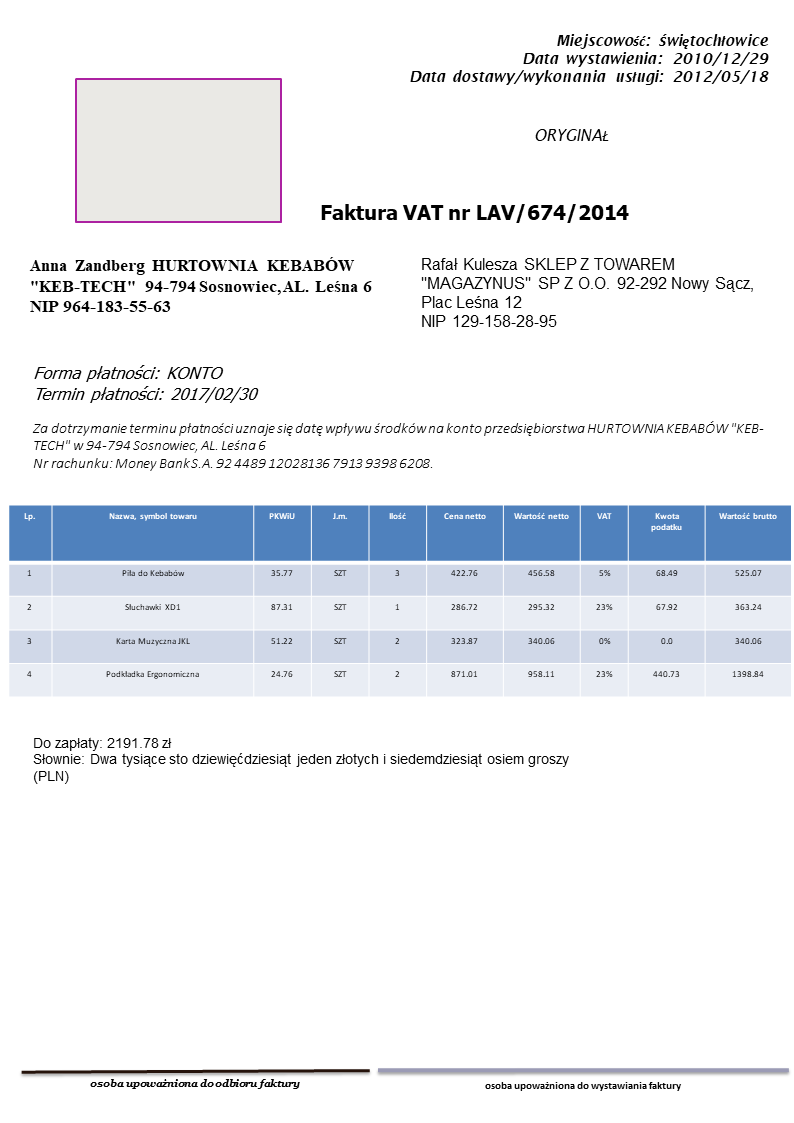Table: (7, 504, 794, 697)
TextBox: (30, 419, 769, 474), (31, 734, 572, 786), (416, 252, 757, 332), (406, 30, 771, 87), (26, 256, 376, 315), (31, 359, 262, 408), (317, 199, 634, 226), (89, 1077, 302, 1094), (483, 1077, 683, 1093), (531, 124, 611, 145)
